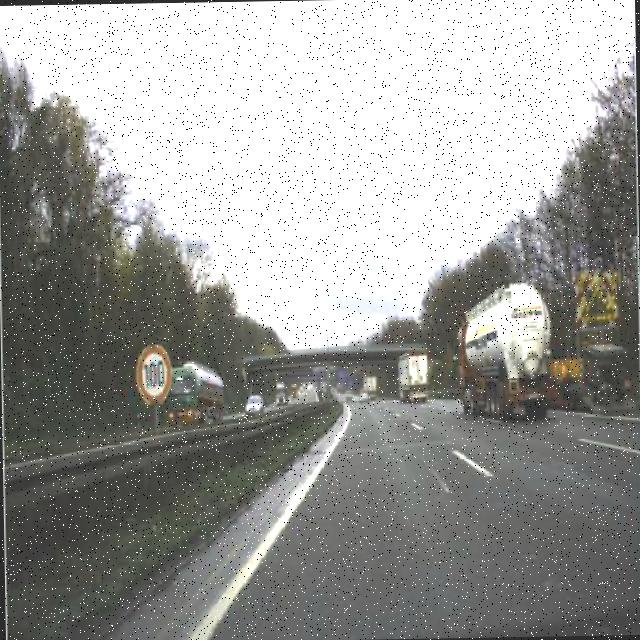Ograniczenie predkosci do 100: (134, 336, 172, 412)
